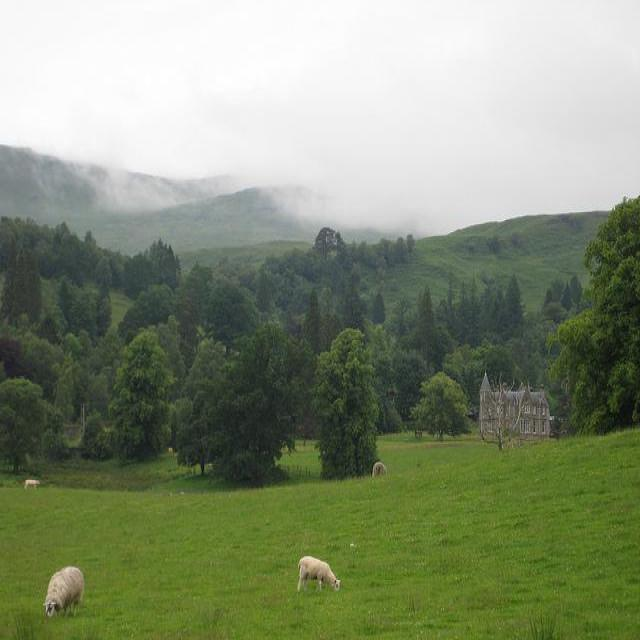Sheep: (46, 568, 86, 616)
